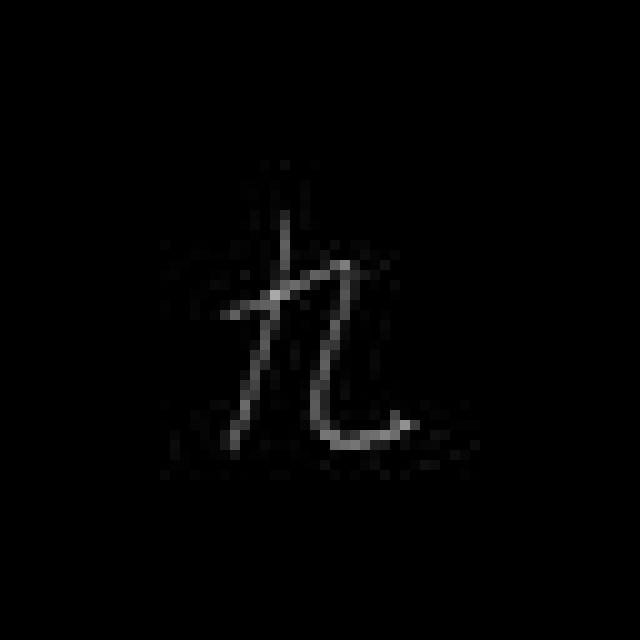9 -nine-: (210, 206, 418, 455)
